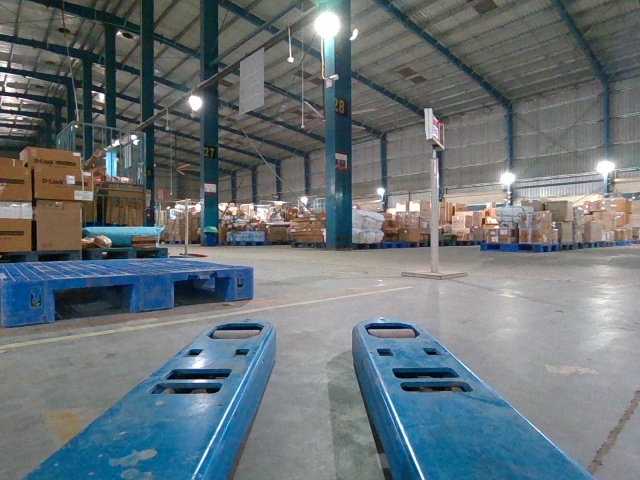block: (1, 278, 55, 329), (134, 270, 176, 311), (231, 265, 255, 304)
front: (2, 265, 254, 325)
hole pallet: (52, 284, 138, 319), (172, 276, 226, 308)
